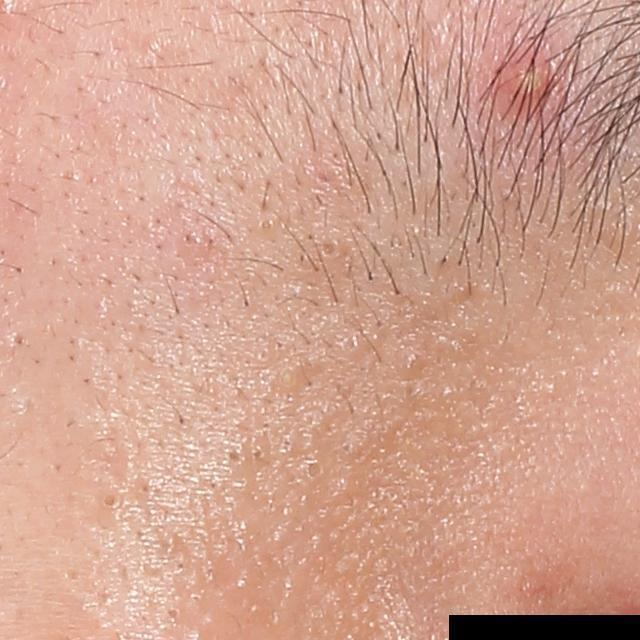comedo: (316, 234, 344, 263), (276, 364, 300, 390), (304, 456, 325, 481), (101, 491, 121, 510), (255, 215, 278, 231)
